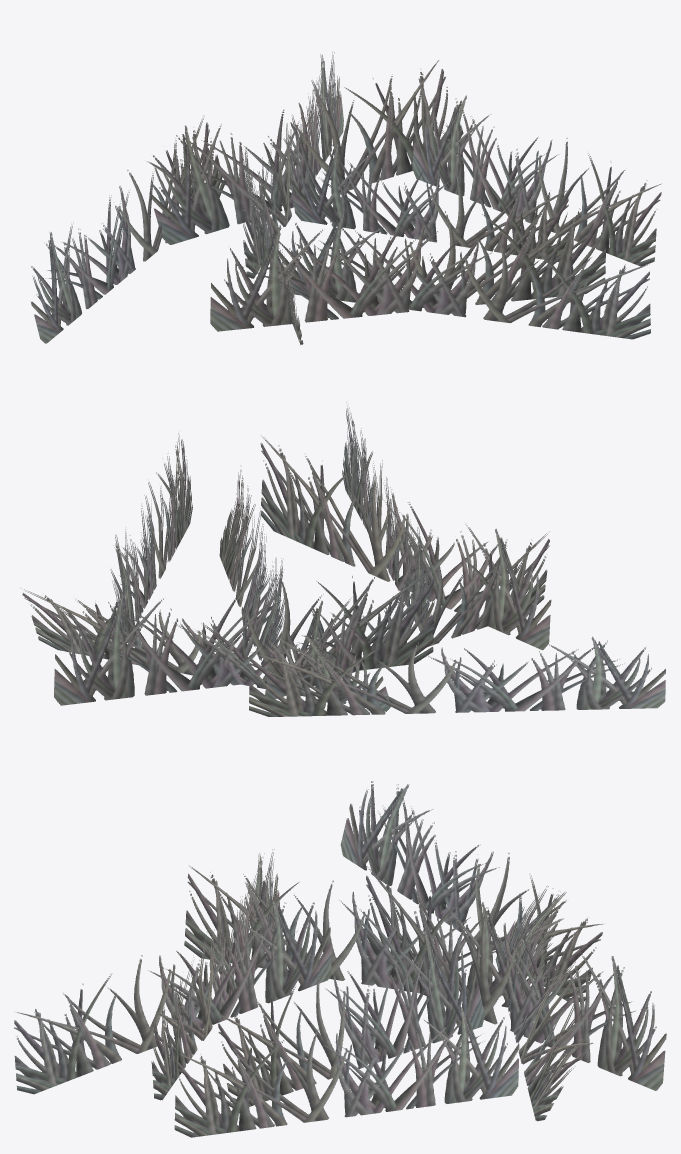
The model's file is grass_low_l0.gltf.
3 renders of one model, top to bottom at view 1: azimuth 30°, elevation 25°; view 2: azimuth 150°, elevation 25°; view 3: azimuth 270°, elevation 25°, orthographic. The views are drawn at different scales.
Parts seen in each view (by area): view 1: grass_low_l0; view 2: grass_low_l0; view 3: grass_low_l0.
Part boxes in pixels (x1,y1,x2,y2): grass_low_l0: (30, 51, 661, 344); grass_low_l0: (20, 405, 665, 716); grass_low_l0: (14, 781, 666, 1137).
Bounding box in the file's own units: 1.8 × 0.3481 × 1.64.
1 material, 1 textured.
